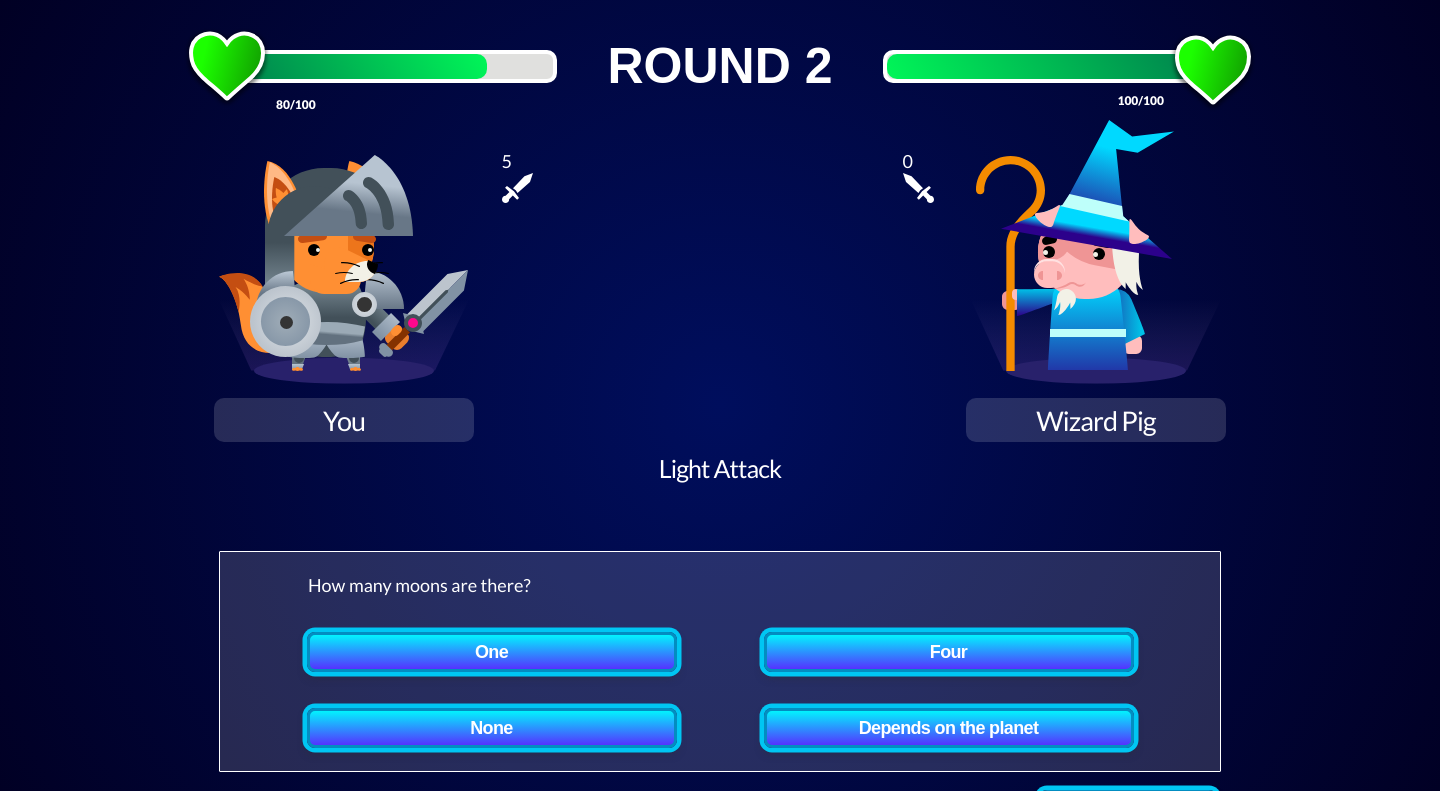
Game Page: functionality tests › should render attack value increased
The width and height of the screenshot is (1440, 791).
expect the text with test id "player-attackvalue" reads "5": met, box [502,150,512,172]
Click the button "Depends on the planet" at (948, 728), box [764,708,1134,748]
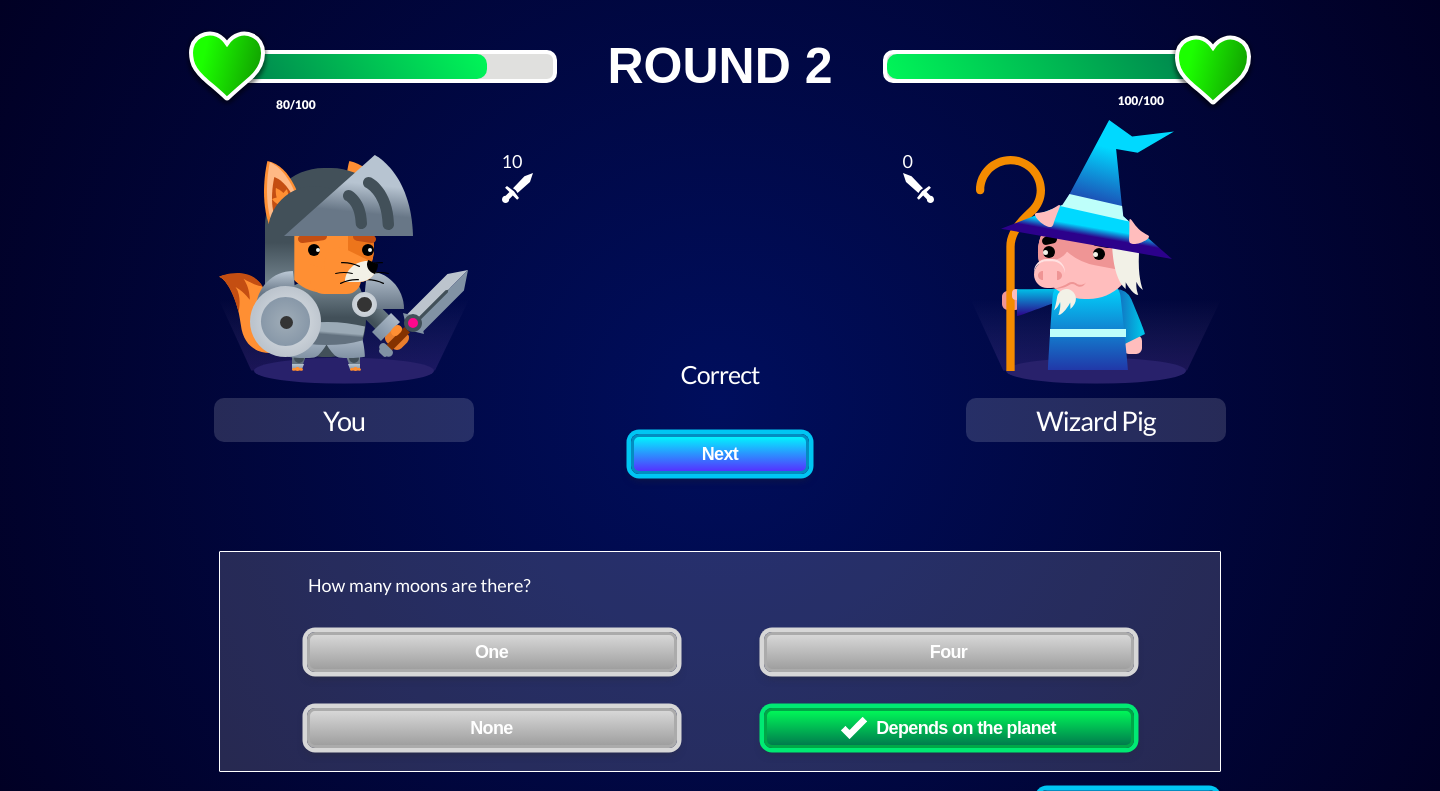
expect the text with test id "player-attackvalue" reads "10": met, box [502,150,522,172]
